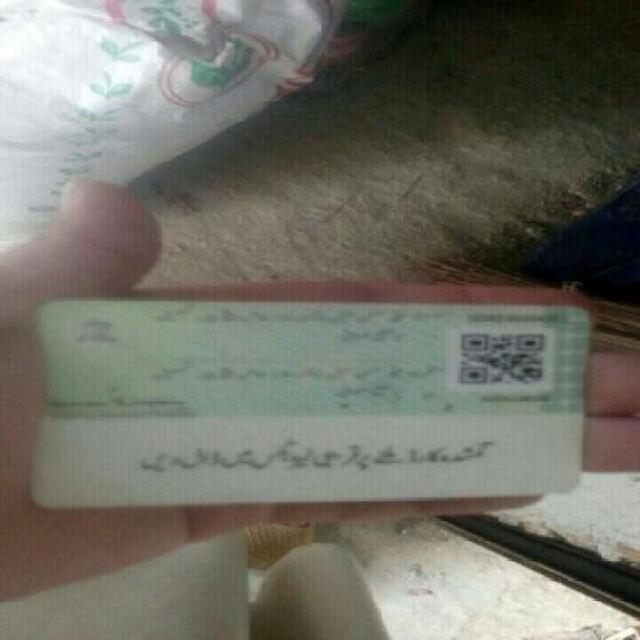Back: (20, 294, 588, 501)
